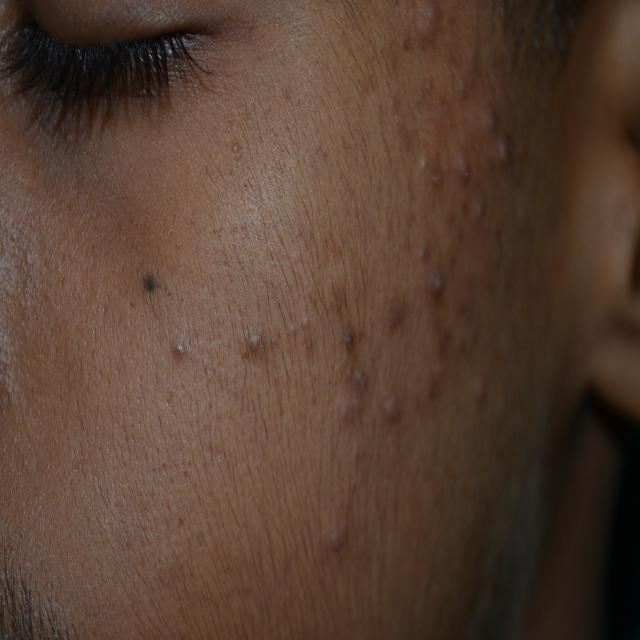Acne: (302, 59, 529, 539)
